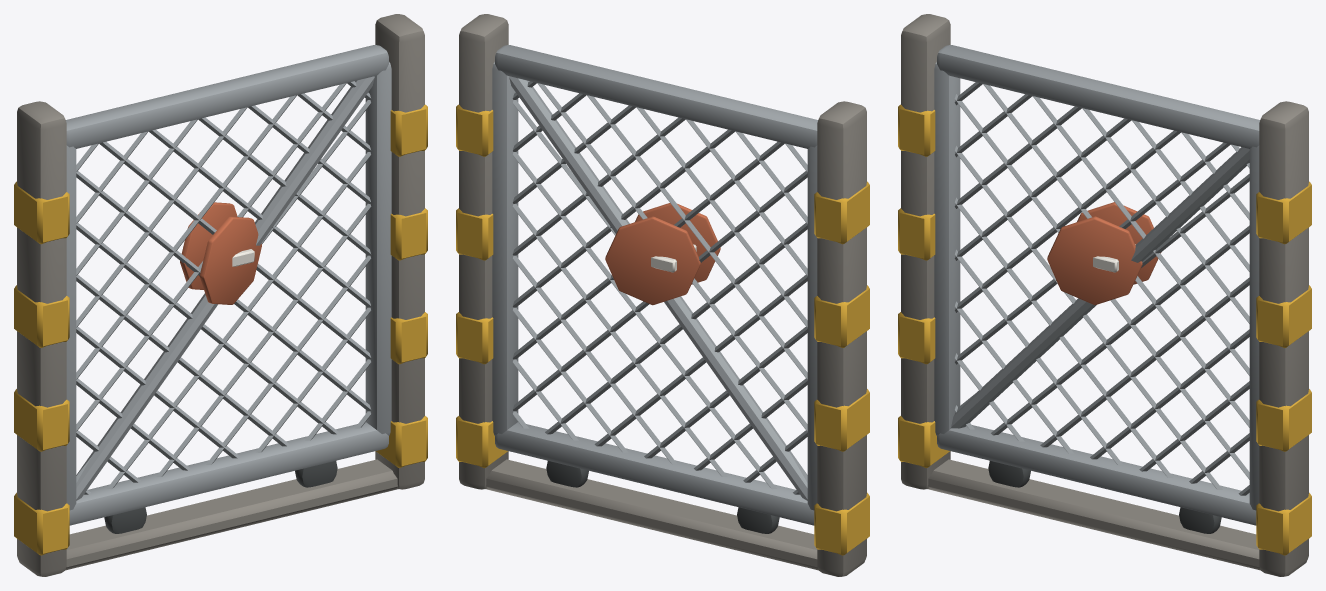
File: vehicle_gate.glb
3 renders of one model, left to right at view 1: azimuth 30°, elevation 25°; view 2: azimuth 150°, elevation 25°; view 3: azimuth 330°, elevation 25°, orthographic.
Parts seen in each view (by area): view 1: galv, steel_dark, hazard, food_c, rubber; view 2: galv, steel_dark, hazard, food_c, rubber; view 3: galv, steel_dark, hazard, food_c, rubber.
Boxes of the visible parts, left/top/right/bottom form: galv: left=66, top=45, right=391, bottom=525; steel_dark: left=17, top=14, right=424, bottom=576; hazard: left=14, top=104, right=427, bottom=555; food_c: left=180, top=202, right=261, bottom=304; rubber: left=104, top=461, right=337, bottom=533; galv: left=492, top=45, right=817, bottom=525; steel_dark: left=459, top=14, right=866, bottom=576; hazard: left=456, top=104, right=869, bottom=555; food_c: left=605, top=203, right=720, bottom=305; rubber: left=546, top=461, right=779, bottom=533; galv: left=934, top=45, right=1259, bottom=525; steel_dark: left=901, top=14, right=1308, bottom=576; hazard: left=898, top=104, right=1311, bottom=555; food_c: left=1047, top=202, right=1161, bottom=304; rubber: left=988, top=461, right=1221, bottom=533.
Bounding box in the file's own units: 1.02 × 1.15 × 0.1847.
